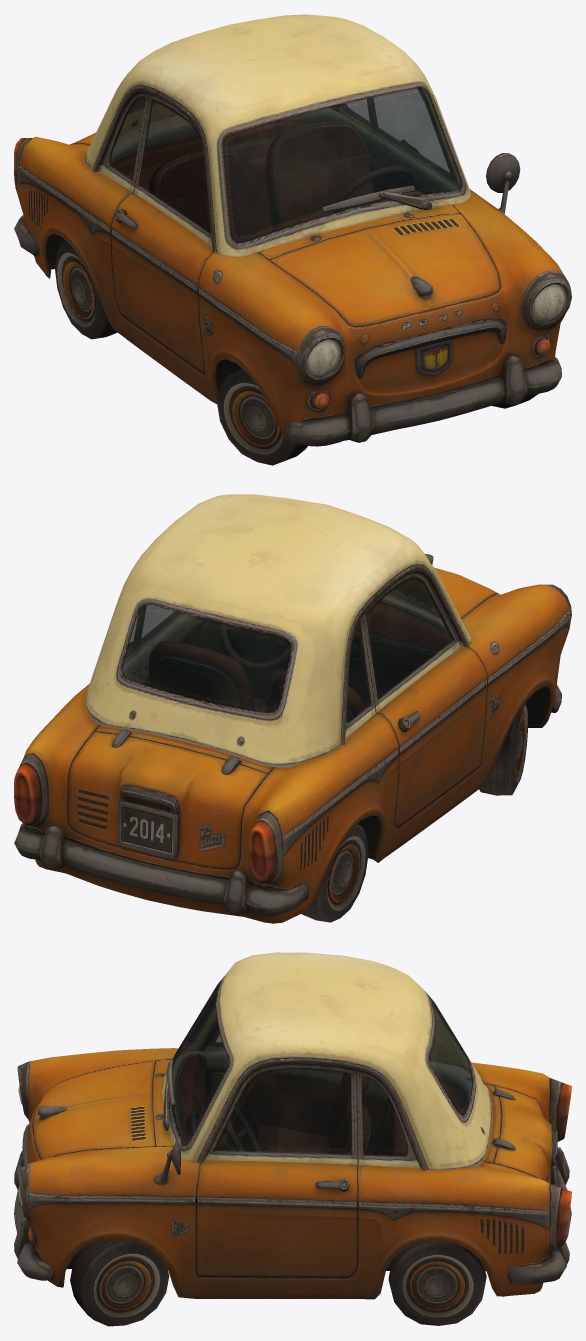
File: oldCarOpti.glb
3 views of the same model, one above another, from view 1: azimuth 30°, elevation 25°; view 2: azimuth 150°, elevation 25°; view 3: azimuth 270°, elevation 25° (orthographic). The views are drawn at different scales.
Visible parts, largest first — view 1: Pony_cartoon_obj_cleaner; view 2: Pony_cartoon_obj_cleaner; view 3: Pony_cartoon_obj_cleaner.
Boxes of the visible parts, x1,y1,x2,y2 form: Pony_cartoon_obj_cleaner: (14,14,571,465); Pony_cartoon_obj_cleaner: (14,494,571,923); Pony_cartoon_obj_cleaner: (14,952,571,1326).
Size of the model in its own units: 144 by 134 by 237.
Materials: 3 (3 with a texture image).
